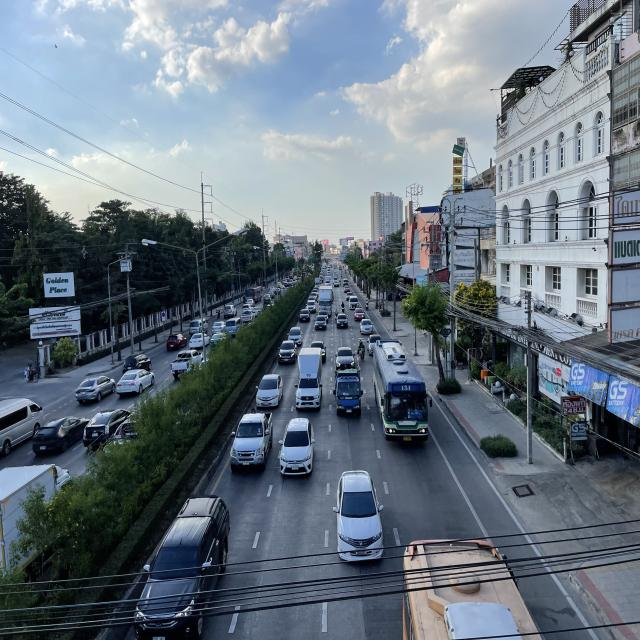bike: (357, 338, 366, 363)
bus: (401, 534, 545, 640), (369, 339, 433, 445)
car: (131, 492, 232, 640), (334, 468, 385, 564), (230, 410, 273, 474), (279, 417, 315, 481), (334, 368, 363, 418), (256, 374, 283, 409), (334, 346, 357, 370), (277, 340, 298, 365), (308, 340, 326, 363), (366, 334, 384, 356), (287, 326, 303, 346)
truck: (294, 348, 323, 412), (318, 285, 332, 317)
